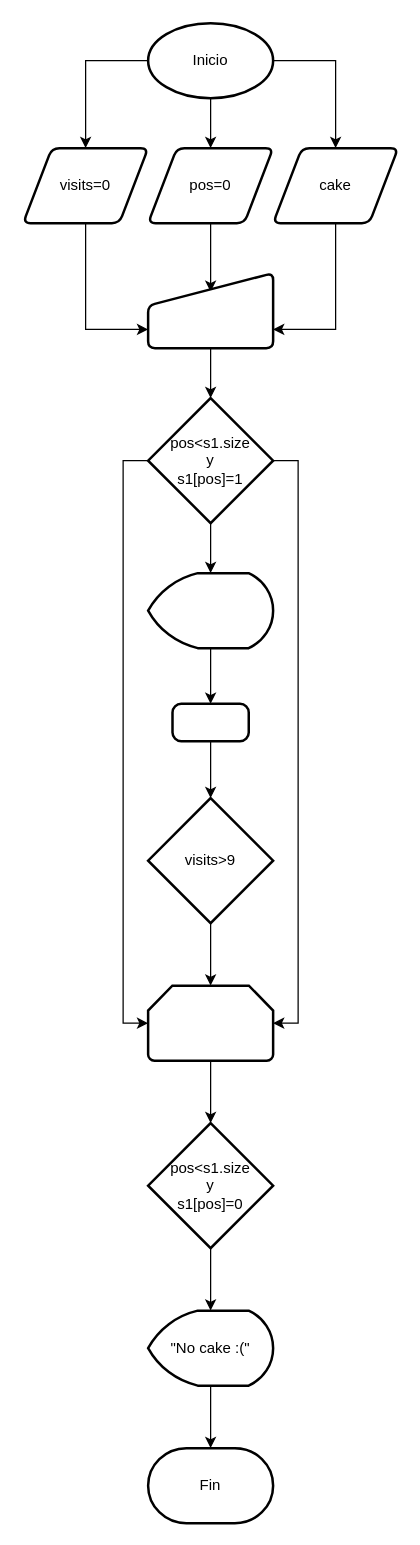
Some shapes in this 420 by 1545 pixel diagram are drawn without their labels. The box of each missing label's shape, as (x1, y1, x2, y2) in pixels:
"Om-nom-nom :P": (146, 571, 274, 649)
Break: (146, 984, 274, 1061)
getline s1: (146, 271, 274, 349)
visits++: (171, 702, 249, 742)
